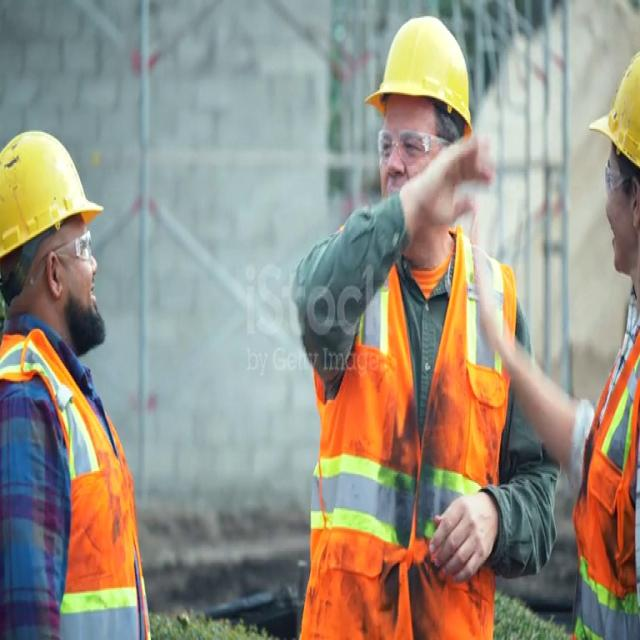capacete: (2, 123, 108, 298), (369, 10, 474, 143), (583, 49, 640, 164)
